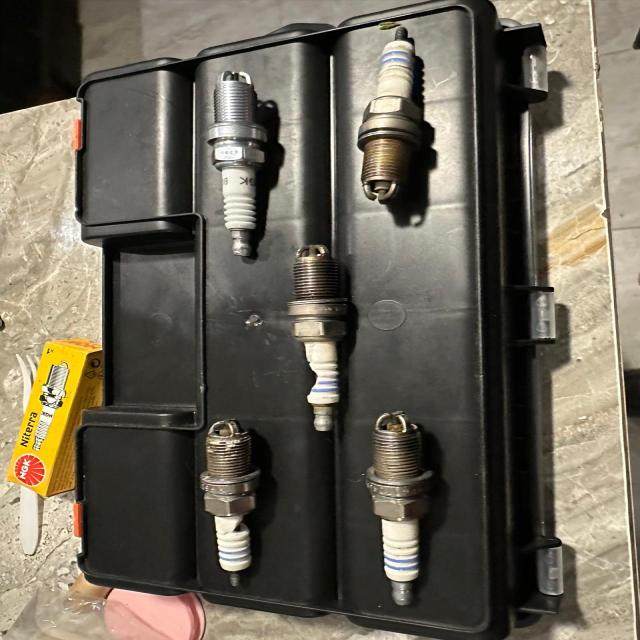damaged_spark-plug: (205, 415, 267, 587), (300, 241, 348, 428)
spark-plug: (351, 22, 437, 211), (371, 409, 440, 607), (215, 68, 268, 260)
